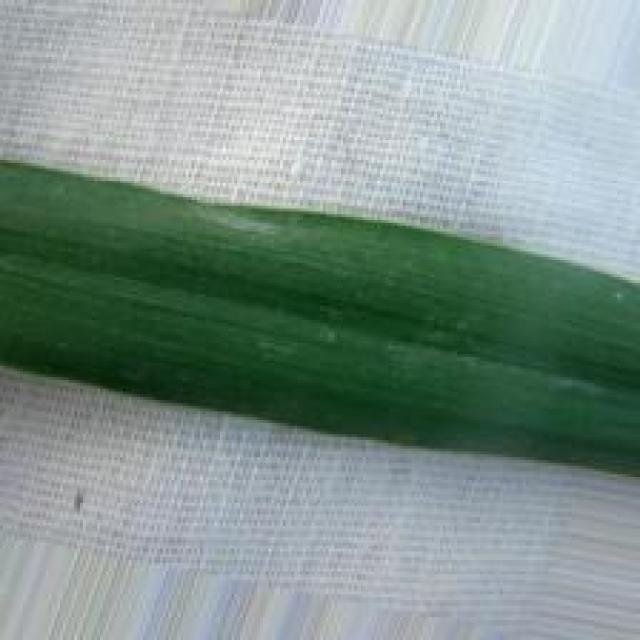Healthy: (0, 163, 640, 477)
